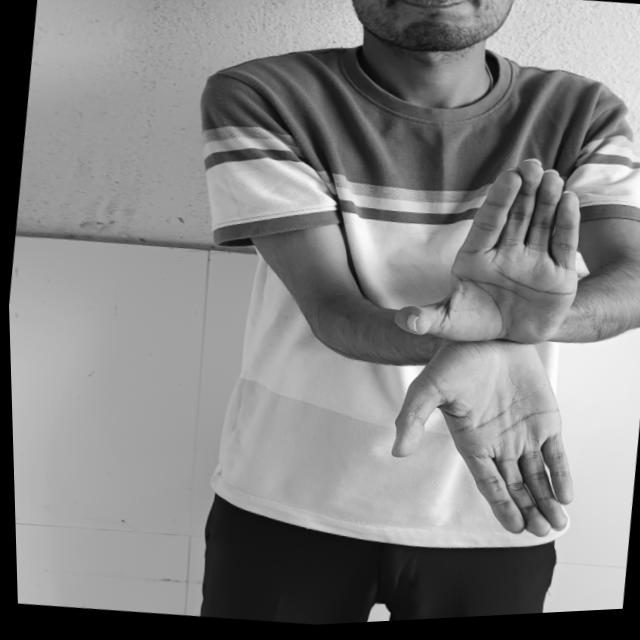Morning: (358, 132, 640, 561)
